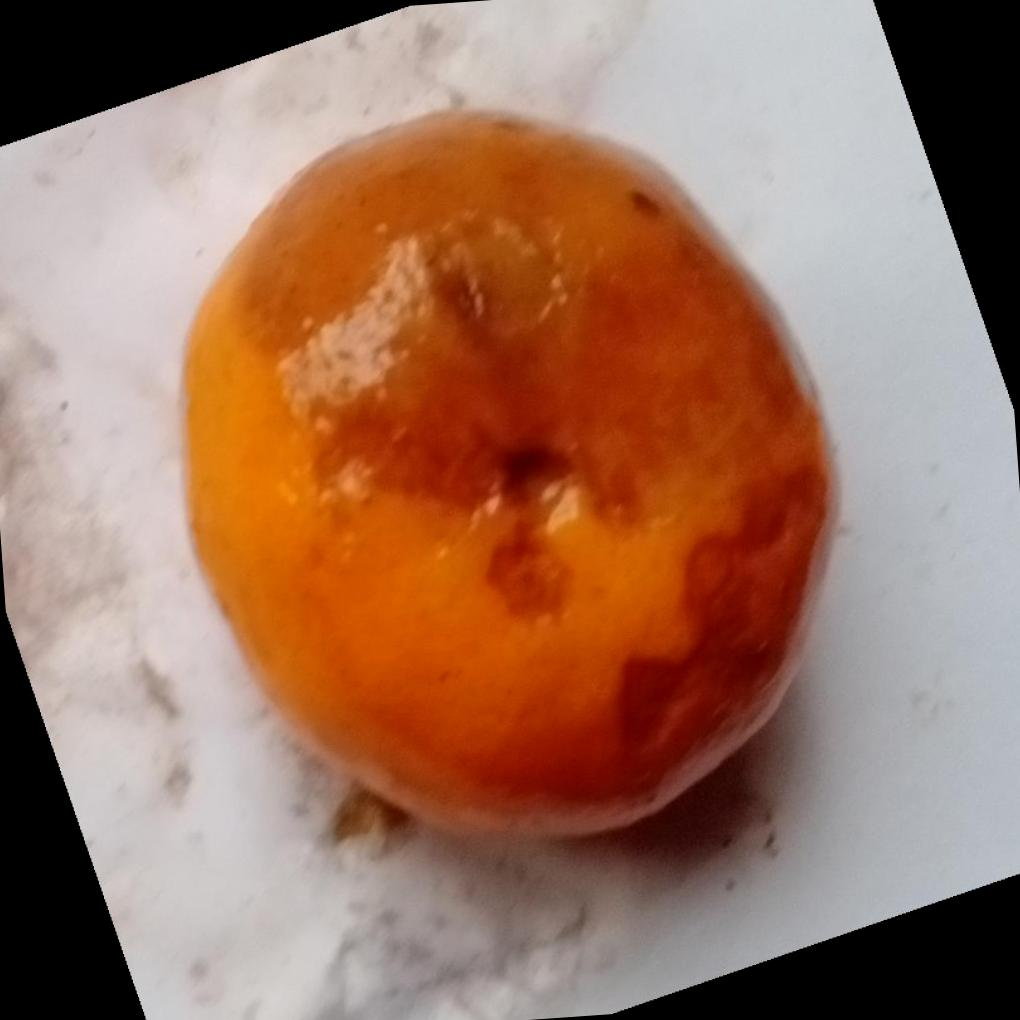FreshOrange: (178, 110, 840, 848)
